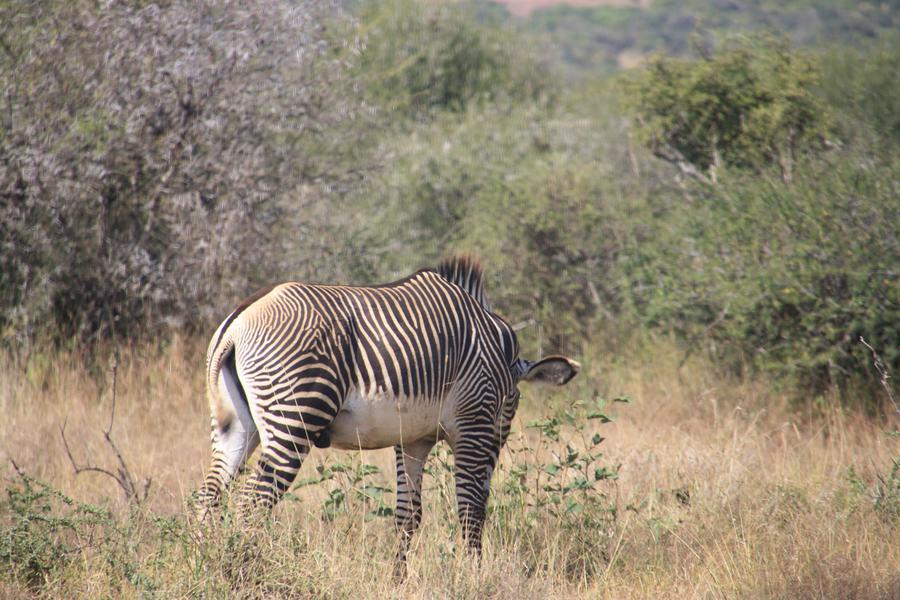zebra_grevys: (227, 290, 506, 445)
